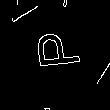P_W: (27, 35, 81, 78)
